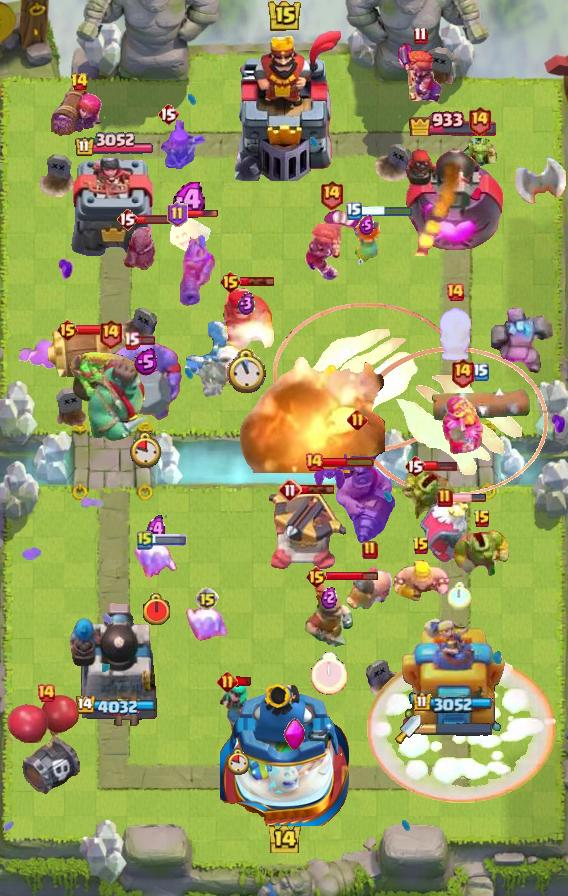archer-evolution: (157, 115, 211, 177)
axe: (514, 138, 568, 206)
bar: (360, 205, 413, 218), (322, 456, 375, 468), (326, 571, 379, 582), (151, 534, 187, 546), (76, 324, 112, 336), (136, 214, 173, 225), (424, 460, 457, 472), (300, 484, 335, 495), (240, 276, 275, 287), (451, 493, 487, 503), (185, 209, 219, 219), (137, 335, 156, 346), (236, 676, 253, 687)
bar-level: (450, 357, 475, 388), (98, 318, 123, 349), (319, 179, 344, 210), (467, 105, 492, 136), (195, 587, 219, 611), (278, 478, 302, 502), (305, 565, 328, 589), (56, 318, 79, 342), (219, 270, 242, 294), (167, 201, 188, 227), (404, 454, 426, 478), (116, 207, 138, 231), (157, 102, 179, 126), (217, 671, 238, 692), (347, 409, 368, 430), (36, 683, 56, 703), (304, 452, 324, 472), (445, 282, 465, 302), (70, 72, 89, 92), (412, 536, 430, 556), (473, 509, 491, 529), (123, 331, 140, 350), (362, 540, 378, 560), (137, 530, 153, 550), (437, 488, 453, 508), (473, 363, 489, 381), (346, 202, 362, 220), (413, 26, 428, 45)
barbarian: (393, 560, 449, 604)
barbarian-barrel: (45, 326, 119, 378)
bat: (312, 463, 348, 493)
cannoneer-tower: (403, 138, 504, 256), (69, 599, 159, 731)
clock: (227, 349, 266, 394), (311, 652, 348, 695), (130, 431, 162, 468), (141, 593, 172, 627), (447, 582, 472, 610), (227, 748, 250, 775)
dagger-duchess-tower: (401, 615, 506, 731)
dagger-duchess-tower-bar: (421, 722, 493, 736)
elixir: (172, 182, 210, 218), (134, 348, 158, 376), (146, 515, 167, 543), (238, 292, 255, 315), (321, 586, 337, 609), (359, 215, 374, 235)
evolution-symbol: (282, 718, 306, 752)
firecracker-evolution: (51, 85, 107, 147)
goblin: (460, 134, 498, 178)
goblin-brawler: (452, 524, 512, 578), (399, 469, 457, 523)
golemite: (491, 301, 553, 377)
heal-spirit: (169, 210, 213, 254)
hunter: (217, 285, 275, 349)
ice-spirit-evolution: (184, 603, 230, 645), (131, 540, 181, 578)
king-tower: (220, 678, 349, 826), (223, 31, 345, 181)
knight-evolution: (439, 393, 485, 455)
mini-pekka: (114, 222, 166, 274)
musketeer: (180, 234, 218, 306)
queen-tower: (69, 158, 160, 256)
rascal-girl: (218, 680, 258, 734)
royal-ghost: (418, 494, 500, 564)
royal-hog: (437, 305, 473, 365), (347, 565, 393, 609)
royal-recruit: (305, 582, 353, 648)
the-log: (431, 386, 531, 422)
tower-bar: (408, 108, 499, 136), (74, 132, 155, 158), (74, 696, 155, 717), (413, 692, 493, 713)
valkyrie: (347, 216, 385, 268)
valkyrie-evolution: (302, 207, 360, 281), (396, 43, 444, 103)
